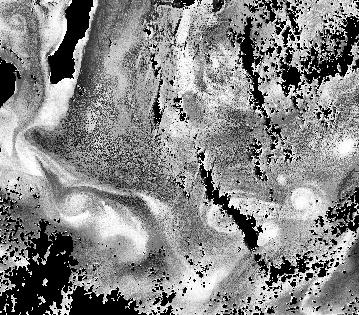CE: (58, 184, 95, 219), (289, 183, 321, 216), (8, 14, 29, 34)
